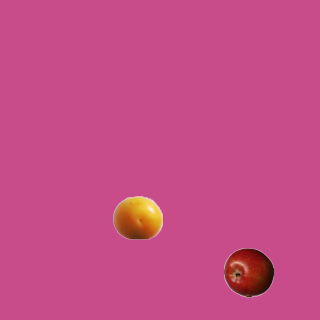Apple Braeburn: (223, 247, 273, 297)
Cherry Wax Yellow: (112, 192, 162, 242)
